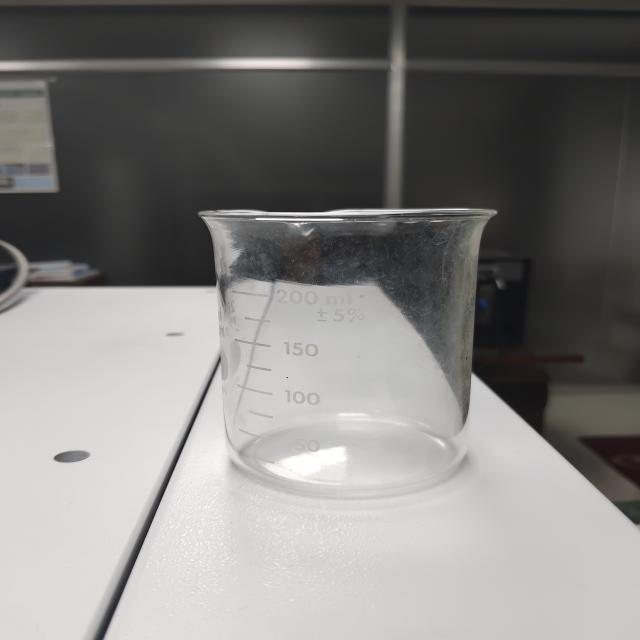Beaker: (188, 158, 510, 513)
